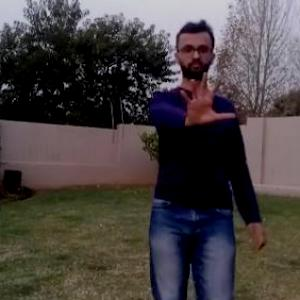follow_hand: (177, 65, 237, 128)
